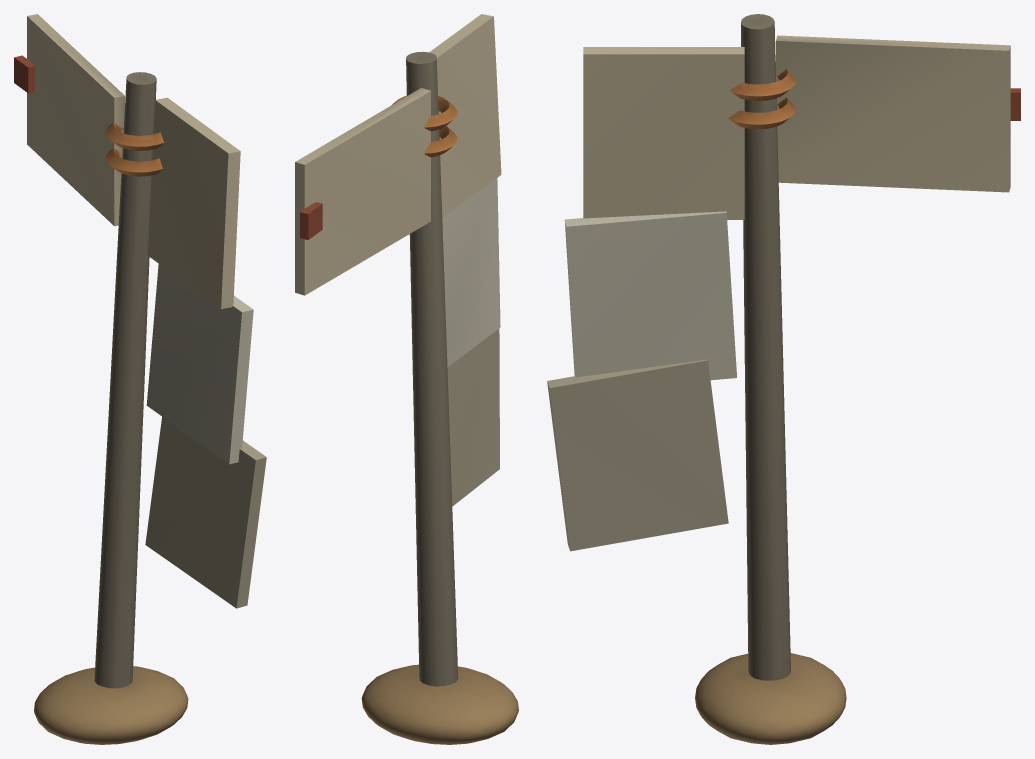
File: keeper_bunting_a.glb
The picture shows the model from 3 angles, left to right: view 1: azimuth 30°, elevation 25°; view 2: azimuth 150°, elevation 25°; view 3: azimuth 270°, elevation 25°; orthographic projection. The views are drawn at different scales.
Parts seen in each view (by area): view 1: Surface; view 2: Surface; view 3: Surface.
Part boxes in pixels (x1,y1,x2,y2): Surface: (14, 14, 266, 744); Surface: (295, 14, 518, 744); Surface: (547, 14, 1020, 744).
Size of the model in its own units: 0.6776 by 3.06 by 1.82.
